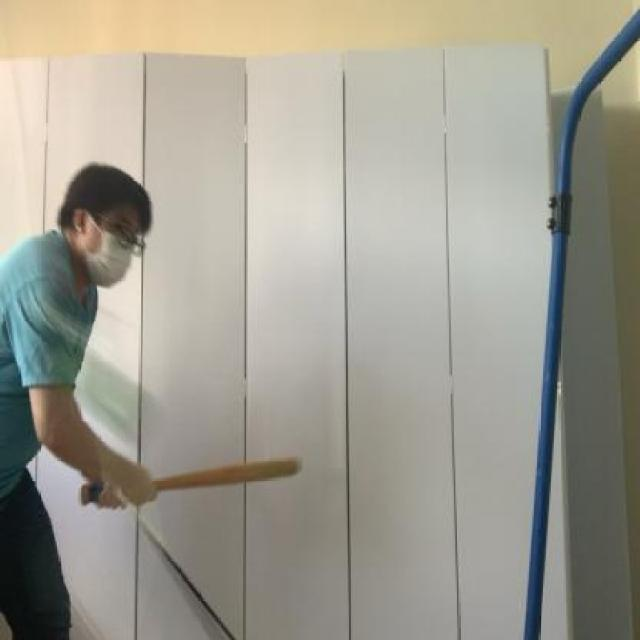baseball: (23, 318, 172, 444)
